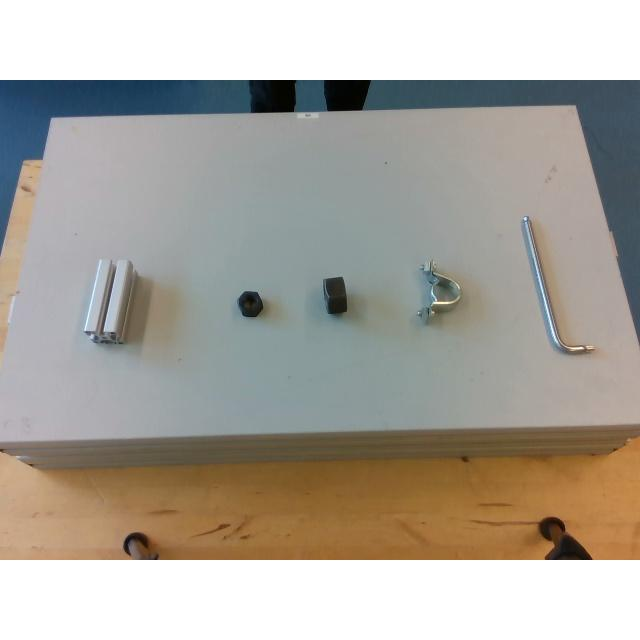AllenKey: (521, 214, 595, 354)
Housing: (414, 260, 462, 320)
M20: (237, 290, 263, 314)
M30: (321, 276, 347, 316)
S40_40_G: (84, 258, 132, 342)
